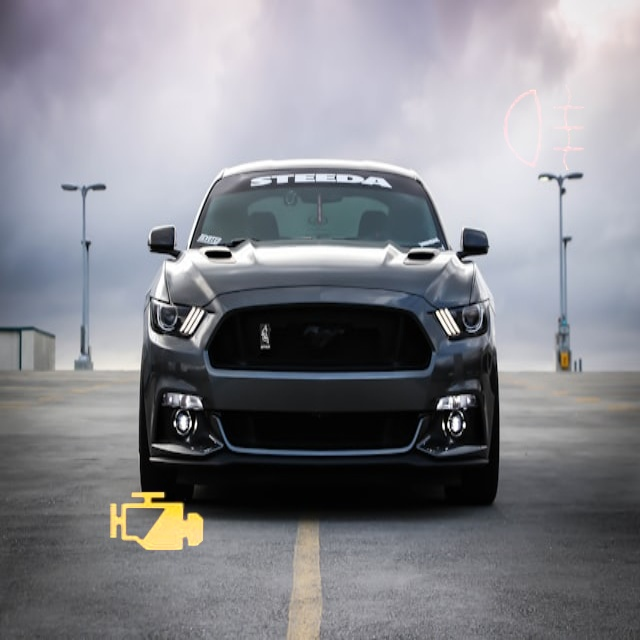symbol: (459, 43, 631, 215), (88, 454, 224, 590)
